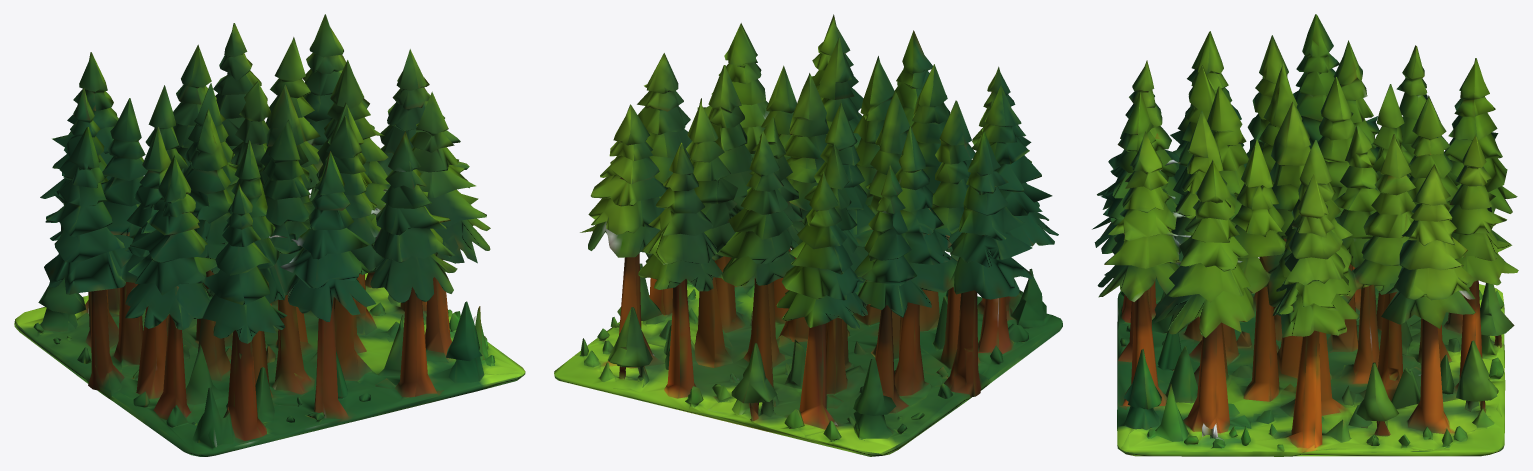
Rendered from forest.glb.
The picture shows the model from 3 angles, left to right: view 1: azimuth 30°, elevation 25°; view 2: azimuth 150°, elevation 25°; view 3: azimuth 270°, elevation 25°; orthographic projection. The views are drawn at different scales.
Visible parts, largest first — view 1: geometry_0; view 2: geometry_0; view 3: geometry_0.
Part boxes in pixels (bbox=[...]): geometry_0: bbox=[14, 14, 525, 456]; geometry_0: bbox=[554, 14, 1062, 456]; geometry_0: bbox=[1092, 14, 1518, 456].
Size of the model in its own units: 0.9978 by 0.6377 by 0.895.
Materials: 1 (1 with a texture image).
